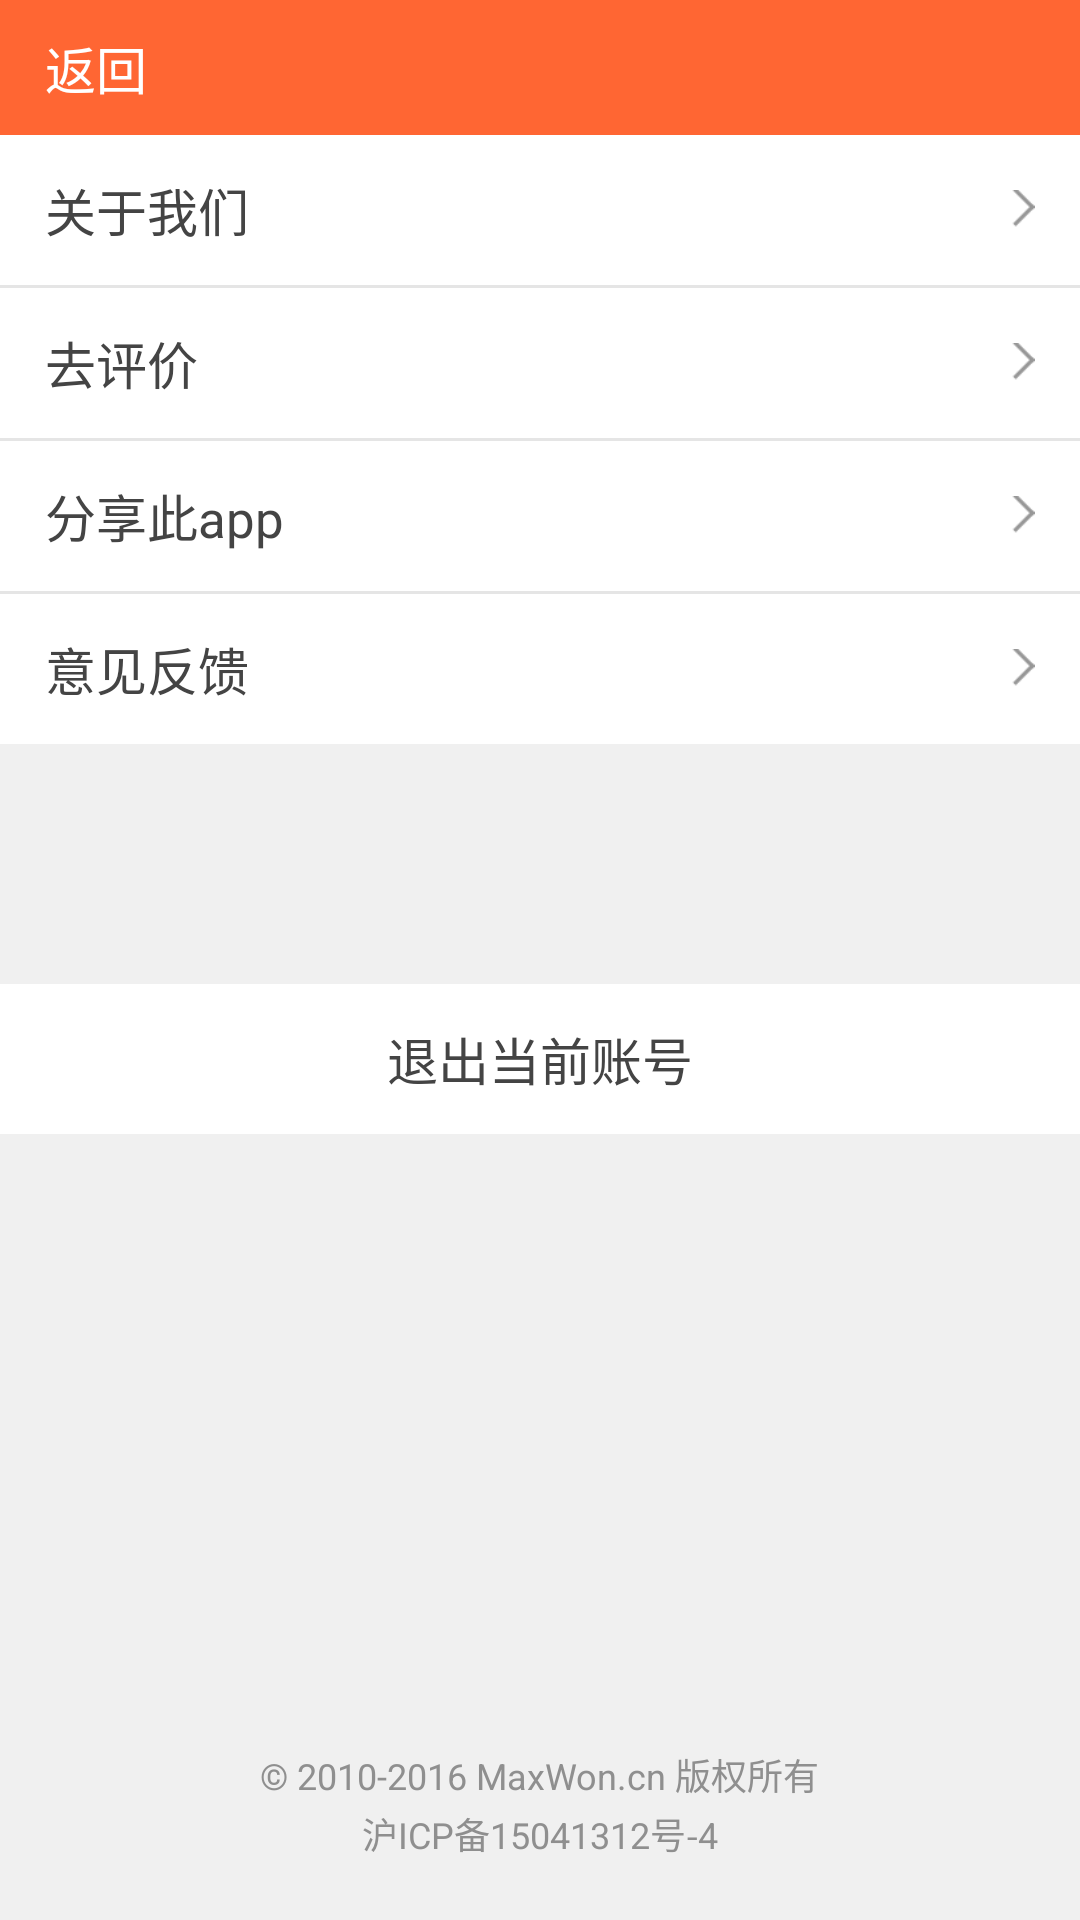

Screen size 1080×1920. Icon name, then its center in pixels as (x,y):
item into: (1024,208), (1024,361), (1024,514), (1024,667)
